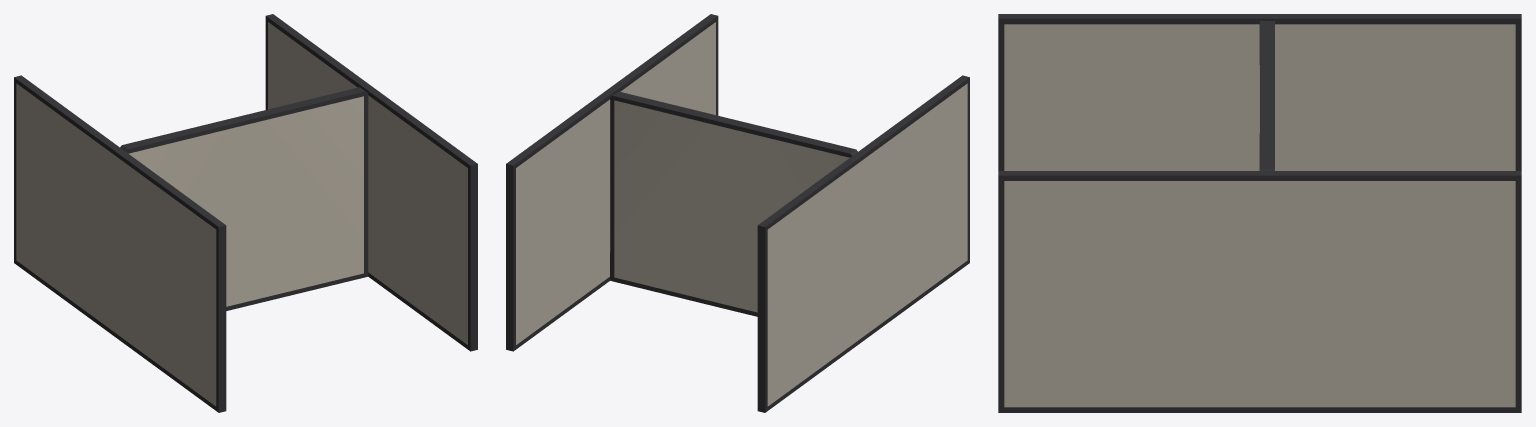
Rendered from 08_divider_full_H_smallfragments.glb.
The picture shows the model from 3 angles, left to right: view 1: azimuth 30°, elevation 25°; view 2: azimuth 150°, elevation 25°; view 3: azimuth 270°, elevation 25°; orthographic projection. The views are drawn at different scales.
Visible parts, largest first — view 1: Panel_Back_fragment_2, Panel_Left_fragment_2, Panel_Back_fragment_3, Panel_Left_fragment_3, Panel_Right_fragment_3, Panel_Left_fragment_1, Panel_Right_fragment_2, Panel_Right_fragment_1, Panel_Back_fragment_1; view 2: Panel_Back_fragment_2, Panel_Left_fragment_2, Panel_Back_fragment_3, Panel_Left_fragment_1, Panel_Right_fragment_1, Panel_Left_fragment_3, Panel_Right_fragment_2, Panel_Right_fragment_3, Panel_Back_fragment_1; view 3: Panel_Right_fragment_2, Panel_Right_fragment_3, Panel_Right_fragment_1, Panel_Left_fragment_2, Panel_Left_fragment_3, Panel_Left_fragment_1, Panel_Back_fragment_2, Panel_Back_fragment_3, Panel_Back_fragment_1.
Part boxes in pixels (x1,y1,x2,y2): Panel_Back_fragment_2: (172, 107, 305, 310); Panel_Left_fragment_2: (64, 112, 162, 371); Panel_Back_fragment_3: (277, 87, 368, 291); Panel_Left_fragment_3: (149, 174, 226, 412); Panel_Right_fragment_3: (400, 113, 477, 351); Panel_Left_fragment_1: (14, 75, 77, 308); Panel_Right_fragment_2: (315, 50, 413, 309); Panel_Right_fragment_1: (265, 14, 322, 109); Panel_Back_fragment_1: (120, 133, 185, 195); Panel_Back_fragment_2: (673, 111, 805, 316); Panel_Left_fragment_2: (808, 126, 913, 366); Panel_Back_fragment_3: (610, 91, 700, 295); Panel_Left_fragment_1: (757, 189, 828, 412); Panel_Right_fragment_1: (506, 127, 576, 351); Panel_Left_fragment_3: (893, 75, 969, 304); Panel_Right_fragment_2: (556, 65, 650, 304); Panel_Right_fragment_3: (641, 14, 718, 115); Panel_Back_fragment_1: (792, 137, 857, 199); Panel_Right_fragment_2: (1142, 171, 1393, 412); Panel_Right_fragment_3: (998, 171, 1176, 412); Panel_Right_fragment_1: (1360, 171, 1521, 412); Panel_Left_fragment_2: (1155, 14, 1393, 170); Panel_Left_fragment_3: (998, 14, 1176, 170); Panel_Left_fragment_1: (1372, 14, 1521, 170); Panel_Back_fragment_2: (1259, 52, 1274, 133); Panel_Back_fragment_3: (1259, 117, 1274, 170); Panel_Back_fragment_1: (1259, 21, 1274, 55).
Size of the model in its own units: 2.19 by 1.5 by 3.
